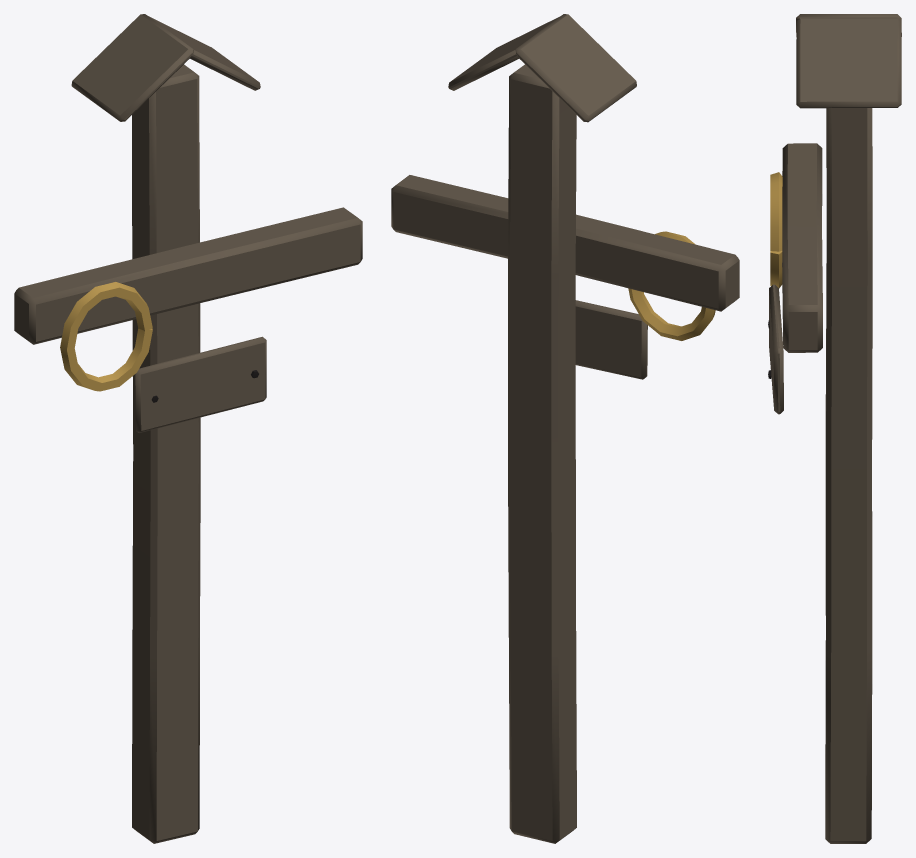
Rendered from holzkreuz.glb.
3 views of the same model, side by side, from view 1: azimuth 30°, elevation 25°; view 2: azimuth 150°, elevation 25°; view 3: azimuth 270°, elevation 25° (orthographic). The views are drawn at different scales.
Parts seen in each view (by area): view 1: holzkreuz; view 2: holzkreuz; view 3: holzkreuz.
Part boxes in pixels (left/top/right/bottom): holzkreuz: left=14, top=14, right=362, bottom=843; holzkreuz: left=391, top=14, right=739, bottom=843; holzkreuz: left=768, top=14, right=901, bottom=843.
Bounding box in the file's own units: 0.5982 × 1.37 × 0.2028.
